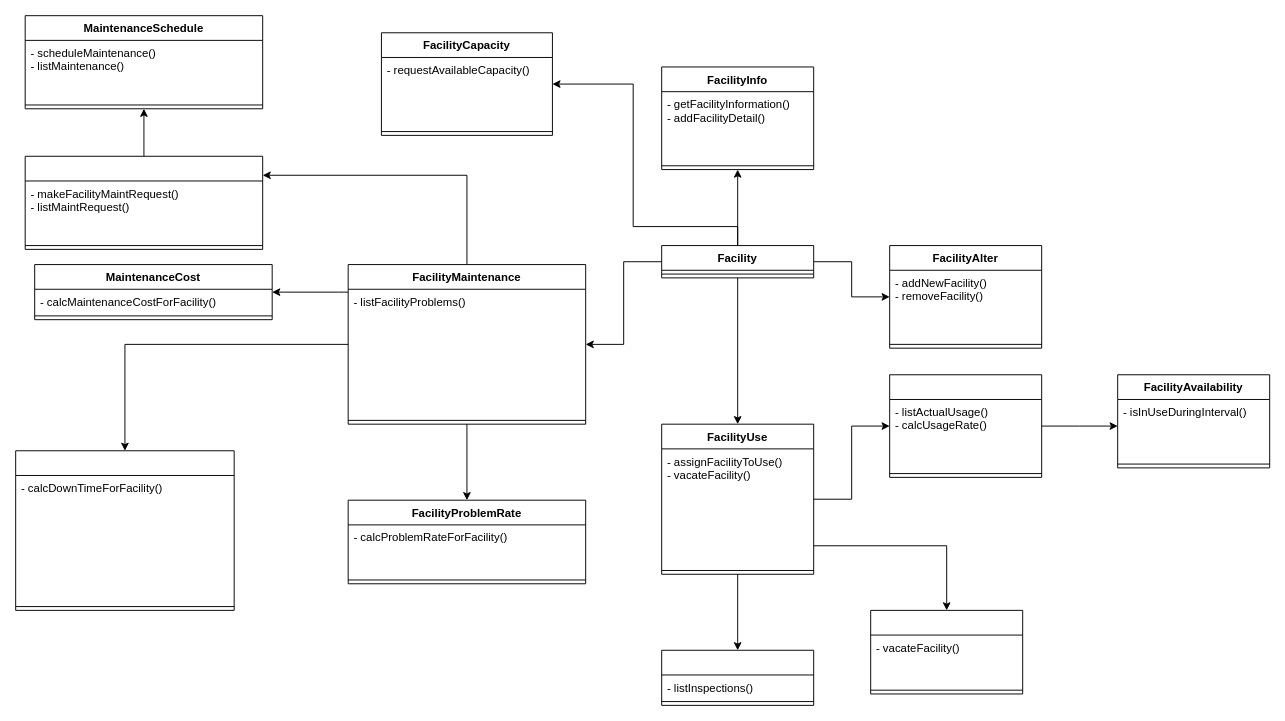
This 1285x721 diagram has some shape labels left out. The shapes that lost their labels are listed below. From the top down, each one's box as (x1, y1, x2, y2) in pixels, then its label:
(24, 155, 263, 249): MaintenanceRequest
(889, 374, 1042, 477): FacilityUsage
(15, 450, 234, 610): FacilityDownTime
(870, 609, 1023, 694): FacilityVacate
(661, 649, 814, 705): FacilityInspections
